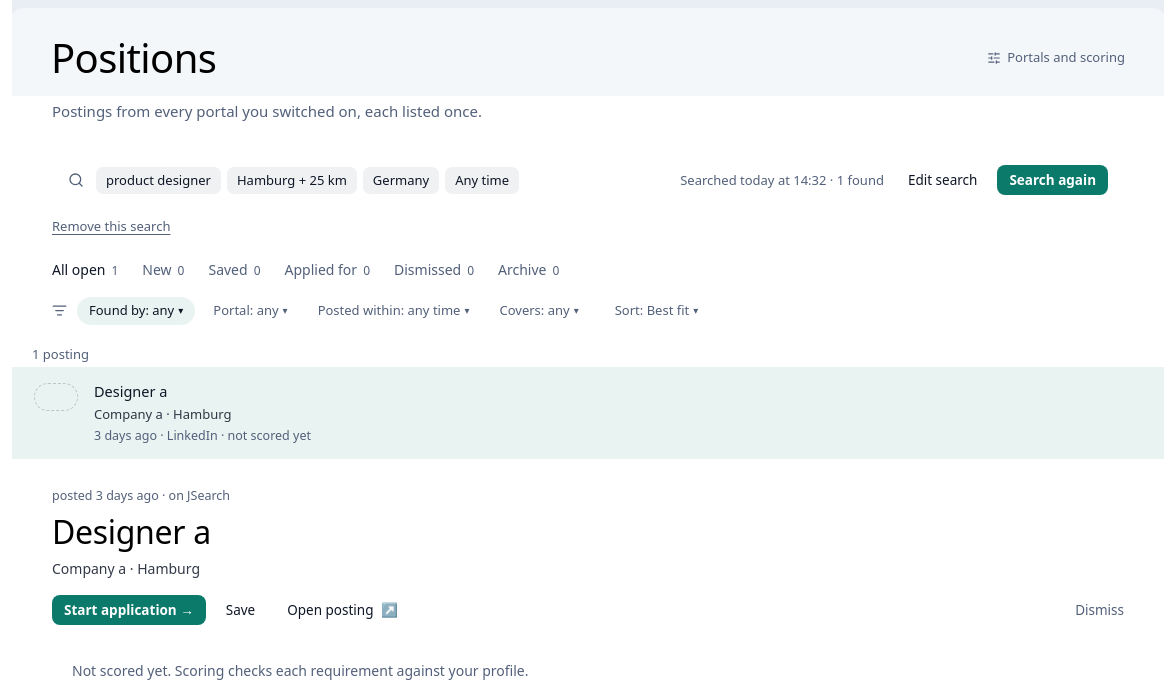
Test case: problems › sends key problems to Settings, above what earlier searches found
This screenshot has width=1176, height=693.
Click the button "Search again" at (1053, 180), box x1=997 y1=165 x2=1108 y2=195
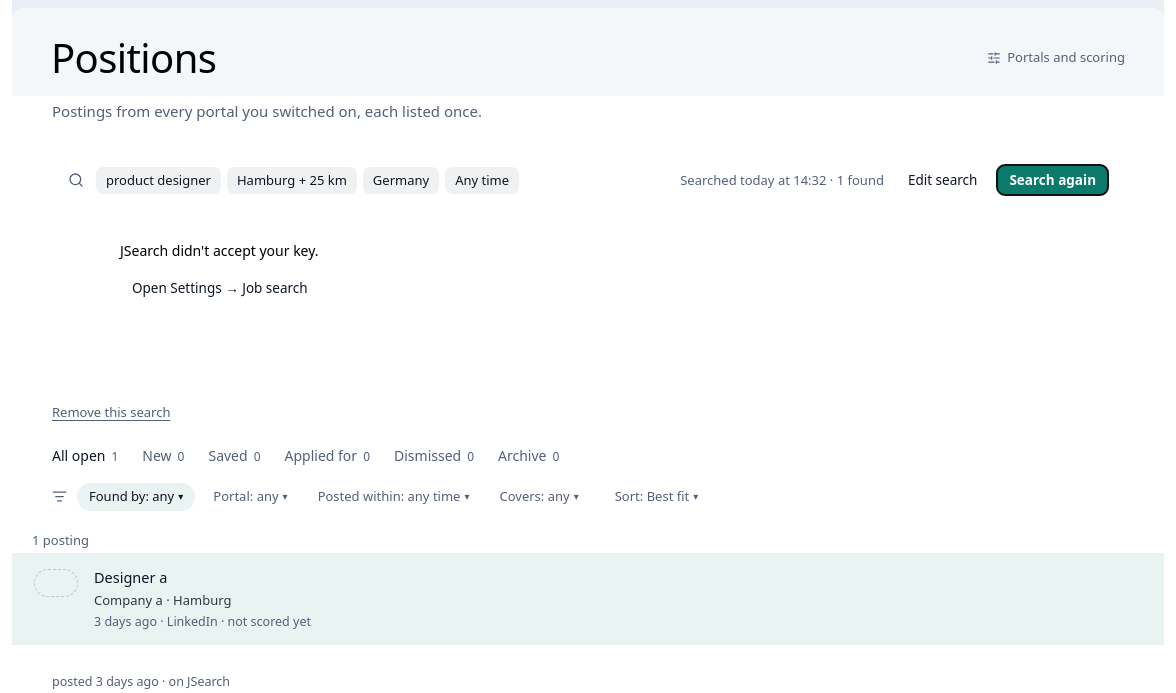
Check: the list named "Postings" is shown, box x1=12 y1=553 x2=1164 y2=645
Check: the message shows "JSearch didn't accept your key.", box x1=120 y1=241 x2=319 y2=260
